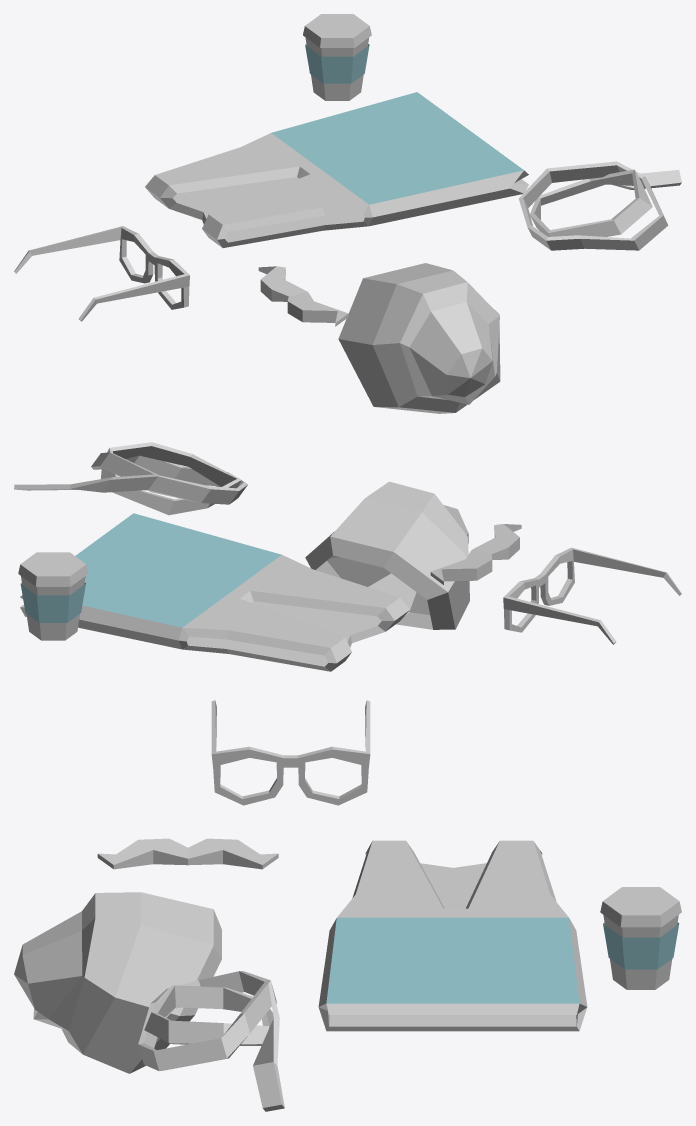
Rendered from outfit_hipster.fbx.
3 views of the same model, one above another, from view 1: azimuth 30°, elevation 25°; view 2: azimuth 150°, elevation 25°; view 3: azimuth 270°, elevation 25° (orthographic). The views are drawn at different scales.
Visible parts, largest first — view 1: Hipster_shirt, Hipster_toque, Hipster_scarf, Hipster_starbucks, Hipster_glasses, Hipster_mustache; view 2: Hipster_shirt, Hipster_toque, Hipster_scarf, Hipster_starbucks, Hipster_glasses, Hipster_mustache; view 3: Hipster_shirt, Hipster_toque, Hipster_scarf, Hipster_starbucks, Hipster_glasses, Hipster_mustache.
Boxes of the visible parts, x1=… form: Hipster_shirt: x1=145, y1=92, x2=528, y2=247; Hipster_toque: x1=338, y1=263, x2=500, y2=413; Hipster_scarf: x1=518, y1=161, x2=681, y2=250; Hipster_starbucks: x1=303, y1=14, x2=371, y2=100; Hipster_glasses: x1=14, y1=226, x2=189, y2=321; Hipster_mustache: x1=258, y1=266, x2=348, y2=326; Hipster_shirt: x1=20, y1=513, x2=409, y2=671; Hipster_toque: x1=305, y1=481, x2=469, y2=629; Hipster_scarf: x1=14, y1=442, x2=247, y2=515; Hipster_starbucks: x1=18, y1=552, x2=88, y2=640; Hipster_glasses: x1=503, y1=547, x2=681, y2=644; Hipster_mustache: x1=430, y1=524, x2=521, y2=584; Hipster_shirt: x1=318, y1=840, x2=587, y2=1031; Hipster_toque: x1=14, y1=892, x2=221, y2=1073; Hipster_scarf: x1=138, y1=971, x2=284, y2=1111; Hipster_starbucks: x1=600, y1=887, x2=681, y2=989; Hipster_glasses: x1=211, y1=700, x2=370, y2=805; Hipster_mustache: x1=97, y1=838, x2=278, y2=869.
Bounding box in the file's own units: 7.28 × 2.13 × 5.66.
